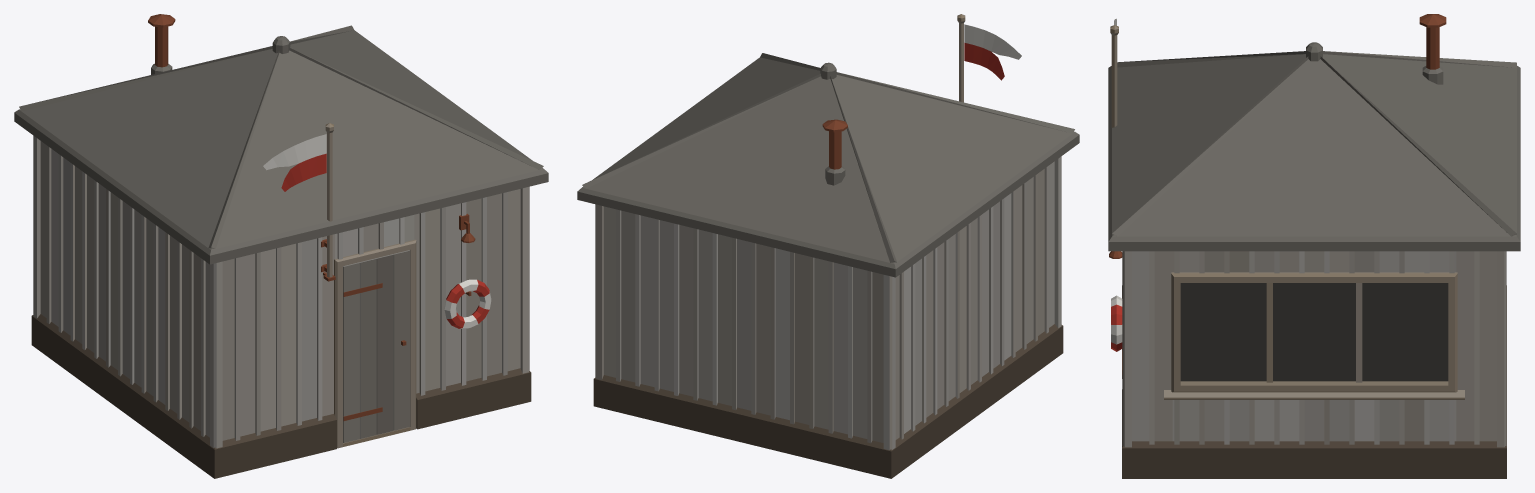
Rendered from harbour-master-s-hut-226f34.glb.
The picture shows the model from 3 angles, left to right: view 1: azimuth 30°, elevation 25°; view 2: azimuth 150°, elevation 25°; view 3: azimuth 270°, elevation 25°; orthographic projection. The views are drawn at different scales.
Parts seen in each view (by area): view 1: hut, flag-cloth; view 2: hut, flag-cloth; view 3: hut.
Part boxes in pixels (x1=…): hut: x1=14, y1=14, x2=548, y2=478; flag-cloth: x1=263, y1=134, x2=326, y2=191; hut: x1=577, y1=14, x2=1079, y2=478; flag-cloth: x1=964, y1=24, x2=1021, y2=80; hut: x1=1108, y1=14, x2=1520, y2=478.
Bounding box in the file's own units: 4 × 3.79 × 4.
